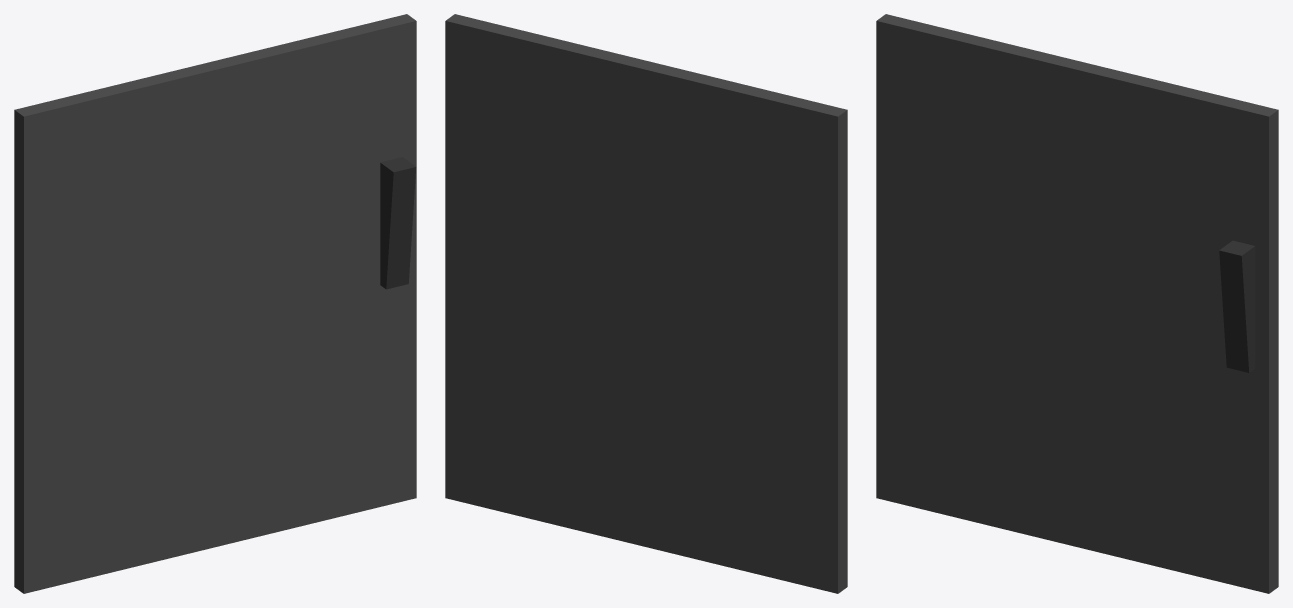
File: shelf_door_5.glb
The picture shows the model from 3 angles, left to right: view 1: azimuth 30°, elevation 25°; view 2: azimuth 150°, elevation 25°; view 3: azimuth 330°, elevation 25°; orthographic projection.
Parts seen in each view (by area): view 1: Expositor Glass Door 2; view 2: Expositor Glass Door 2; view 3: Expositor Glass Door 2.
Part boxes in pixels (x1=…): Expositor Glass Door 2: x1=14, y1=14, x2=416, y2=593; Expositor Glass Door 2: x1=445, y1=14, x2=847, y2=593; Expositor Glass Door 2: x1=876, y1=14, x2=1278, y2=593.
Size of the model in its own units: 0.662 by 0.7689 by 0.067.
2 materials, 1 textured.
